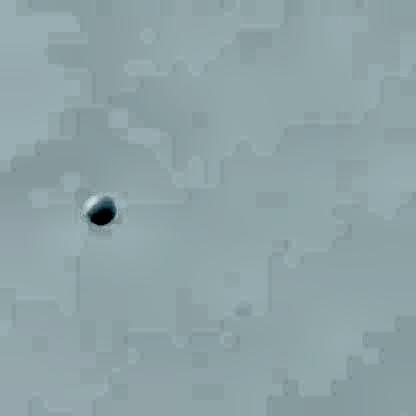golfball: (84, 189, 114, 220)
